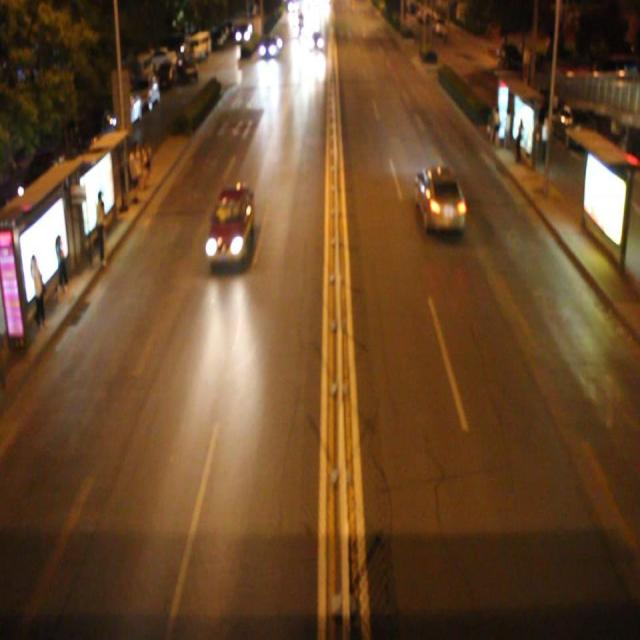car: (204, 181, 254, 267), (413, 166, 466, 235)
